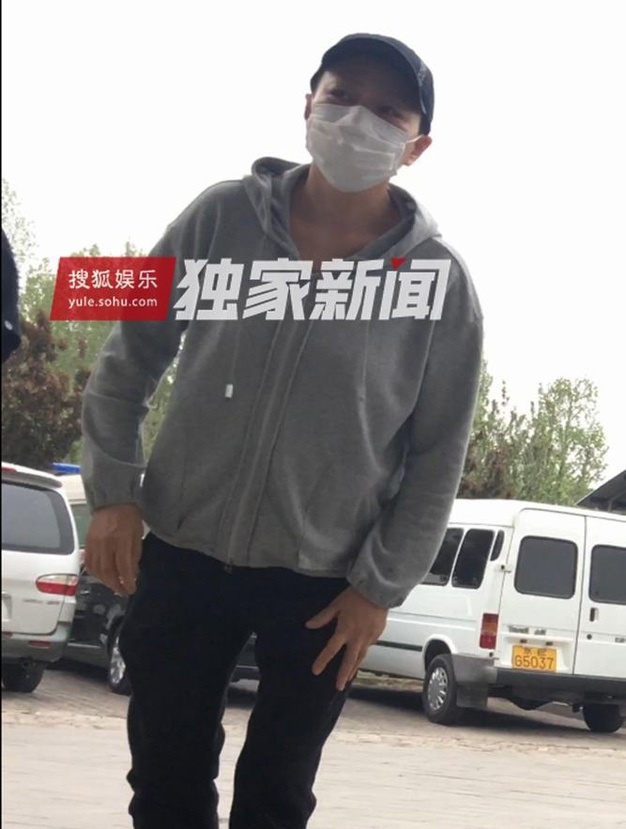face_mask: (305, 58, 415, 193)
